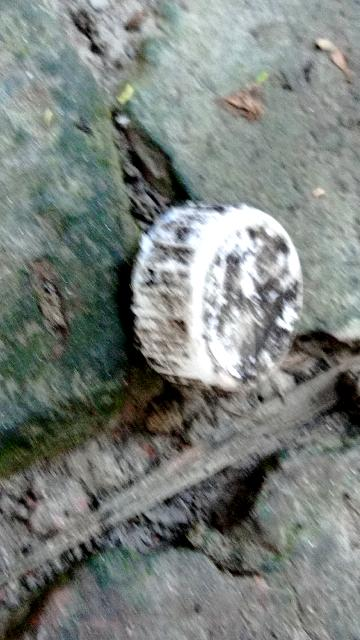hardplastic: (140, 206, 297, 379)
